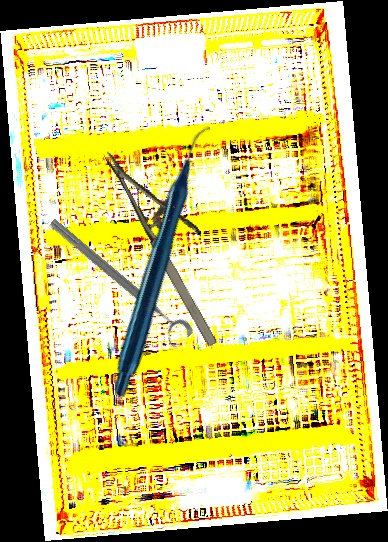Fixation Ring: (39, 213, 196, 353)
Handpiece: (20, 124, 309, 400)
Needle Holder: (102, 130, 249, 350)
